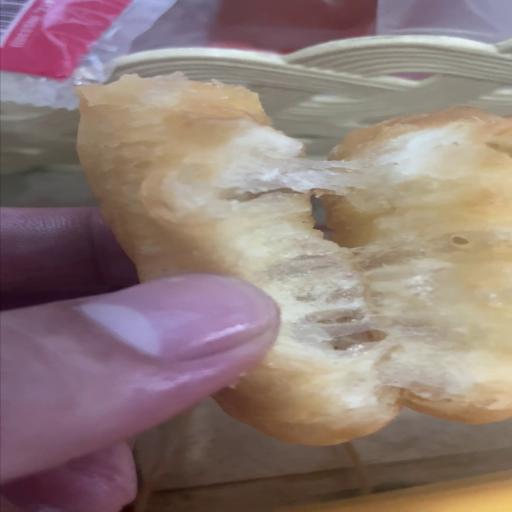street_golden_defect: (79, 97, 510, 441)
